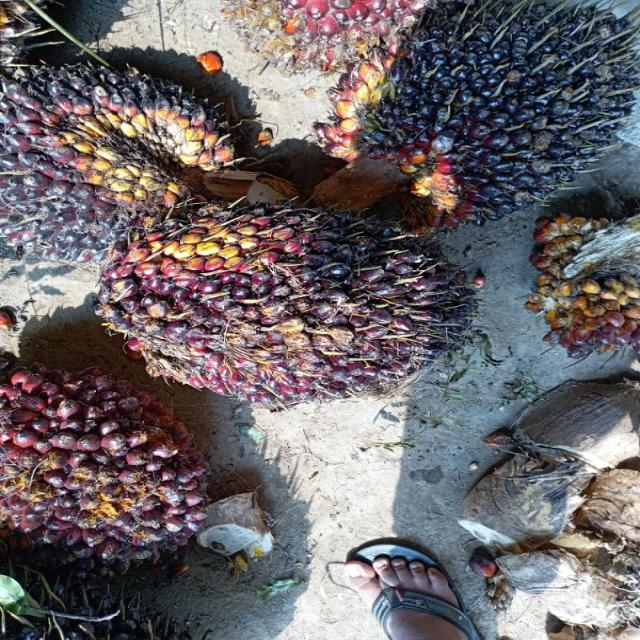fraksi 00: (309, 0, 640, 209), (0, 34, 230, 255)
fraksi 1: (104, 184, 468, 407), (0, 364, 209, 584)
